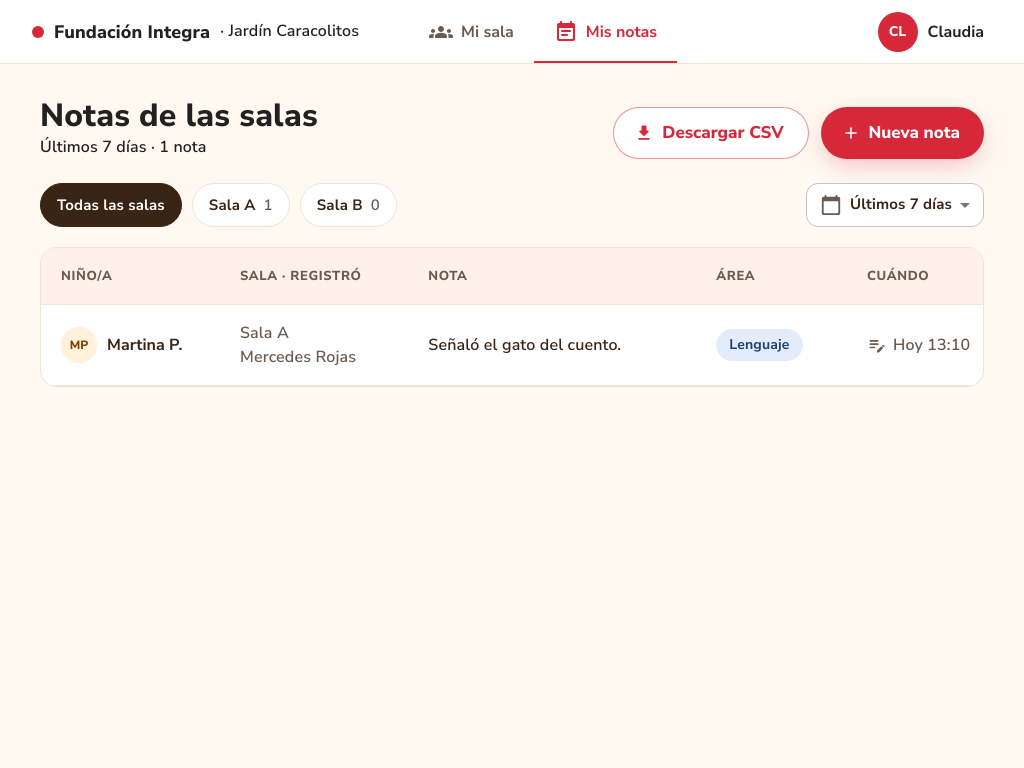
Scenario: Panel de escritorio › una fila de la tabla abre el detalle de la nota
Click the button with aria-label "Ver nota de Martina P.". click: (122, 345)
box: [61,327,183,363]
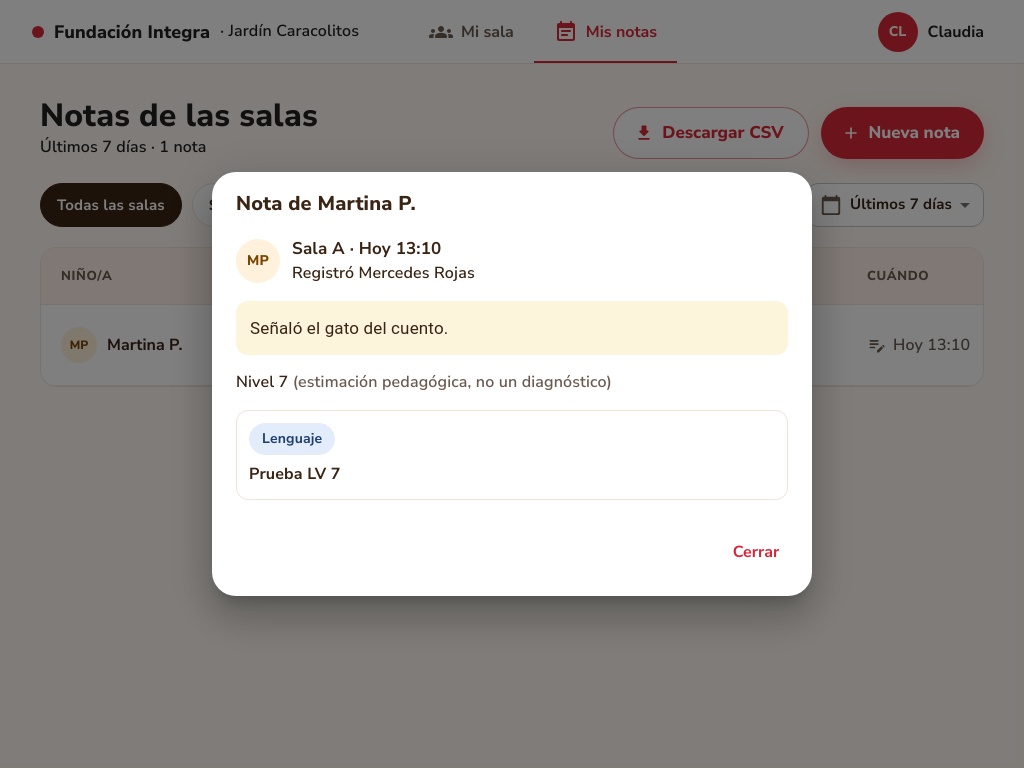
Check: the text "Señaló el gato del cuento." is shown, box [236,301,788,355]
Check: the text "Nivel 7 (estimación pedagógica, no un diagnóstico)" is shown, box [236,371,612,393]
Check: the text "Registró Mercedes Rojas" is shown, box [292,262,475,285]
